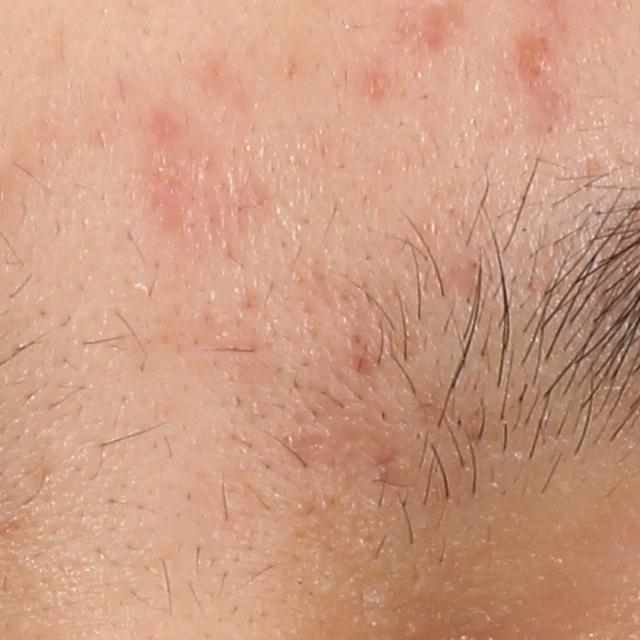papule: (516, 41, 552, 86)
